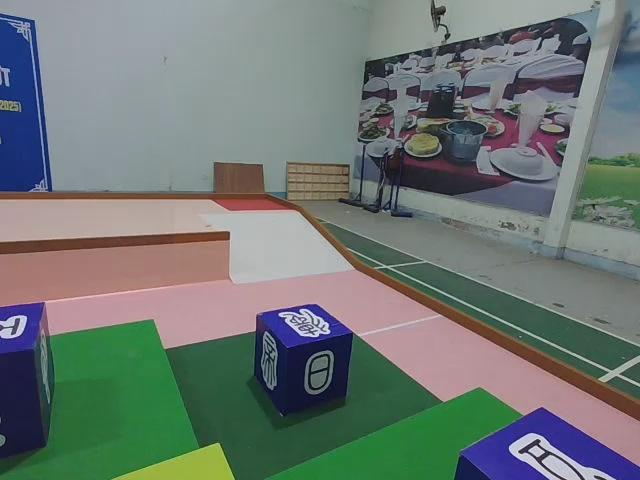R2 Fake Blue: (252, 307, 352, 421)
R2 Real Blue: (452, 407, 640, 479)
